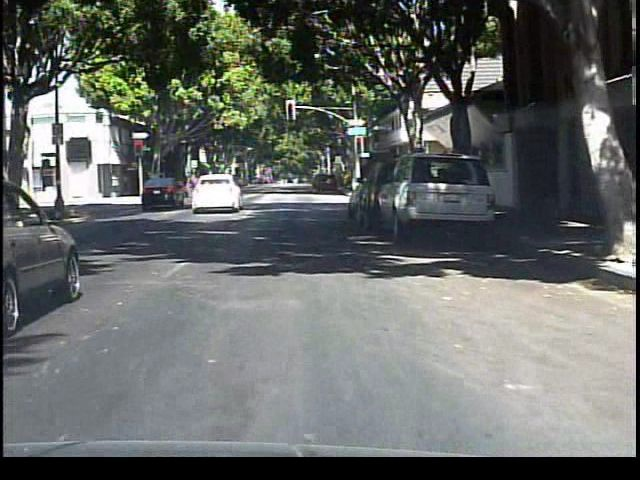person: (182, 167, 207, 207)
